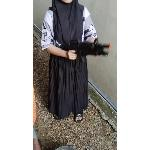Senapan: (58, 38, 112, 62)
